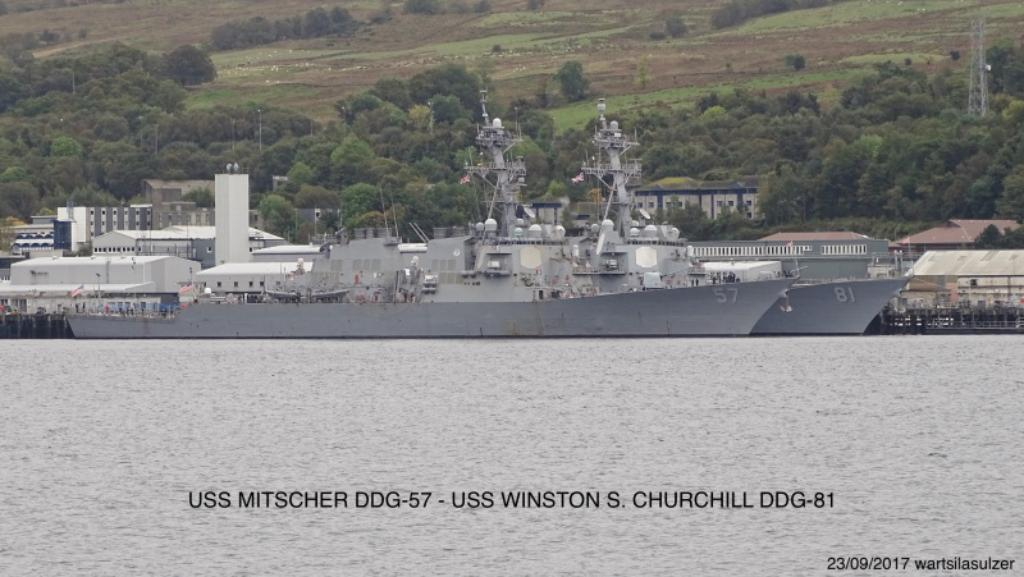Warship: (60, 92, 804, 340), (402, 91, 916, 335)
